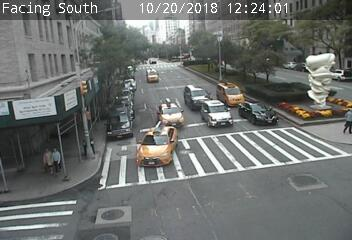car: (137, 126, 178, 167), (238, 101, 278, 126), (201, 100, 233, 128), (183, 84, 213, 111), (158, 98, 184, 127), (217, 82, 244, 107), (145, 69, 159, 82)
